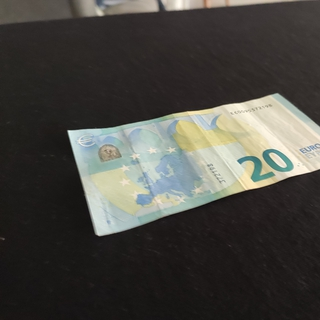20EUROBack: (67, 92, 320, 236)
